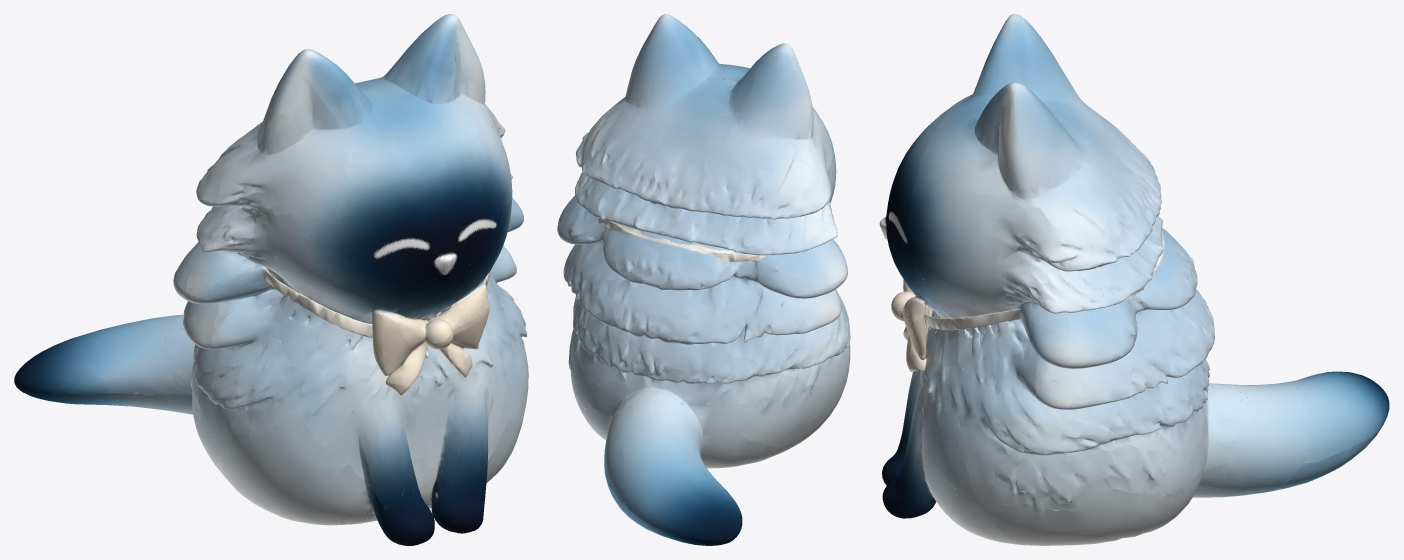
Rendered from pearl-bow-Bq-oBhtf.glb.
3 views of the same model, side by side, from view 1: azimuth 30°, elevation 25°; view 2: azimuth 150°, elevation 25°; view 3: azimuth 270°, elevation 25° (orthographic). The views are drawn at different scales.
Visible parts, largest first — view 1: worn-pearl-bow; view 2: worn-pearl-bow; view 3: worn-pearl-bow.
Part boxes in pixels (left/top/right/bottom): worn-pearl-bow: left=14, top=14, right=528, bottom=545; worn-pearl-bow: left=557, top=14, right=850, bottom=545; worn-pearl-bow: left=879, top=14, right=1389, bottom=545.
Size of the model in its own units: 1.49 by 1.86 by 1.9.
Materials: 1 (1 with a texture image).
